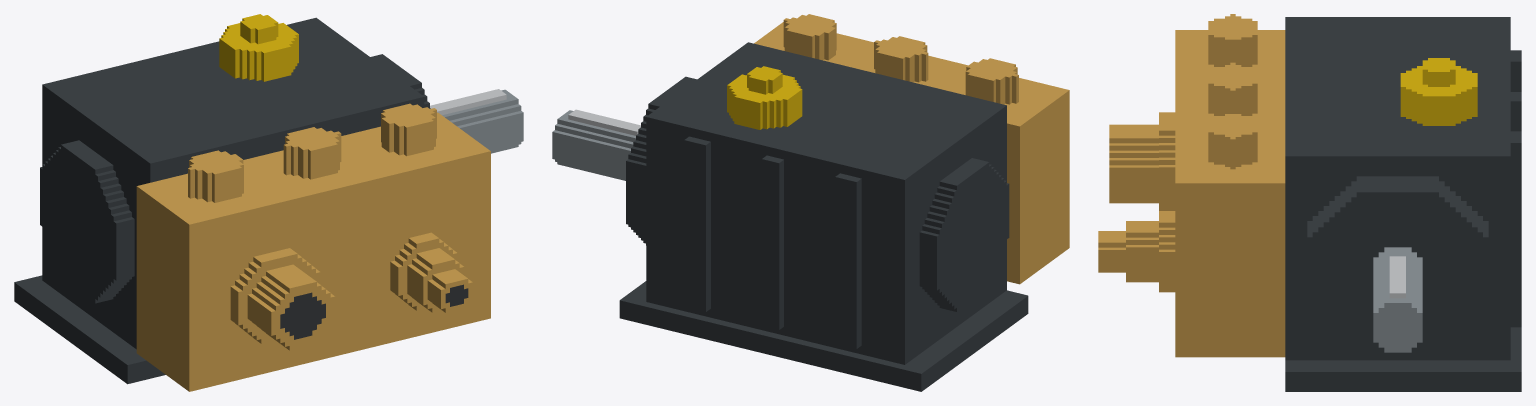
Rendered from pump_complex.glb.
The picture shows the model from 3 angles, left to right: view 1: azimuth 30°, elevation 25°; view 2: azimuth 150°, elevation 25°; view 3: azimuth 270°, elevation 25°; orthographic projection. The views are drawn at different scales.
Parts seen in each view (by area): view 1: pump_complex:compound; view 2: pump_complex:compound; view 3: pump_complex:compound.
Boxes of the visible parts, box(x1,y1,x2,y2) form: pump_complex:compound: box(14, 14, 523, 391); pump_complex:compound: box(552, 14, 1069, 391); pump_complex:compound: box(1098, 14, 1521, 391).
Bounding box in the file's own units: 0.192 × 0.108 × 0.154.
